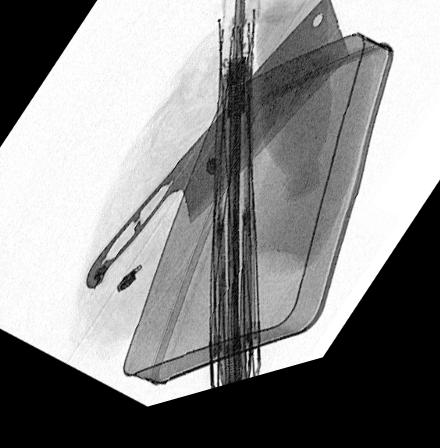Knife: (84, 7, 352, 295)
